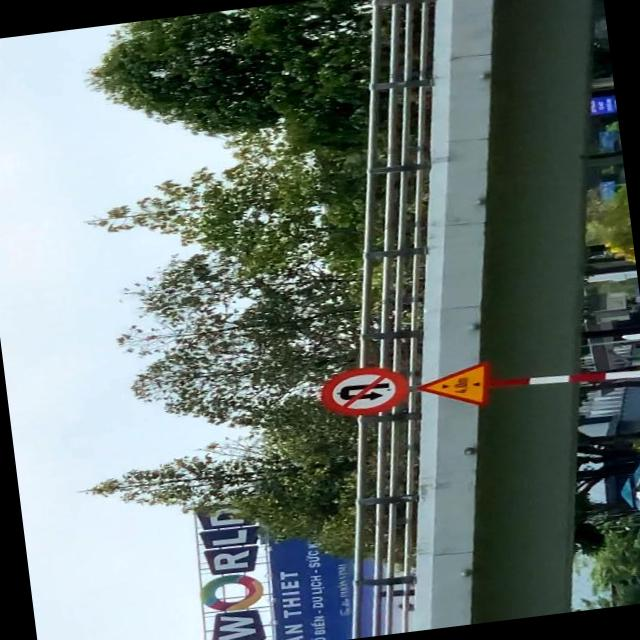P-124a1: (321, 366, 408, 416)
W-239b: (418, 358, 495, 412)
